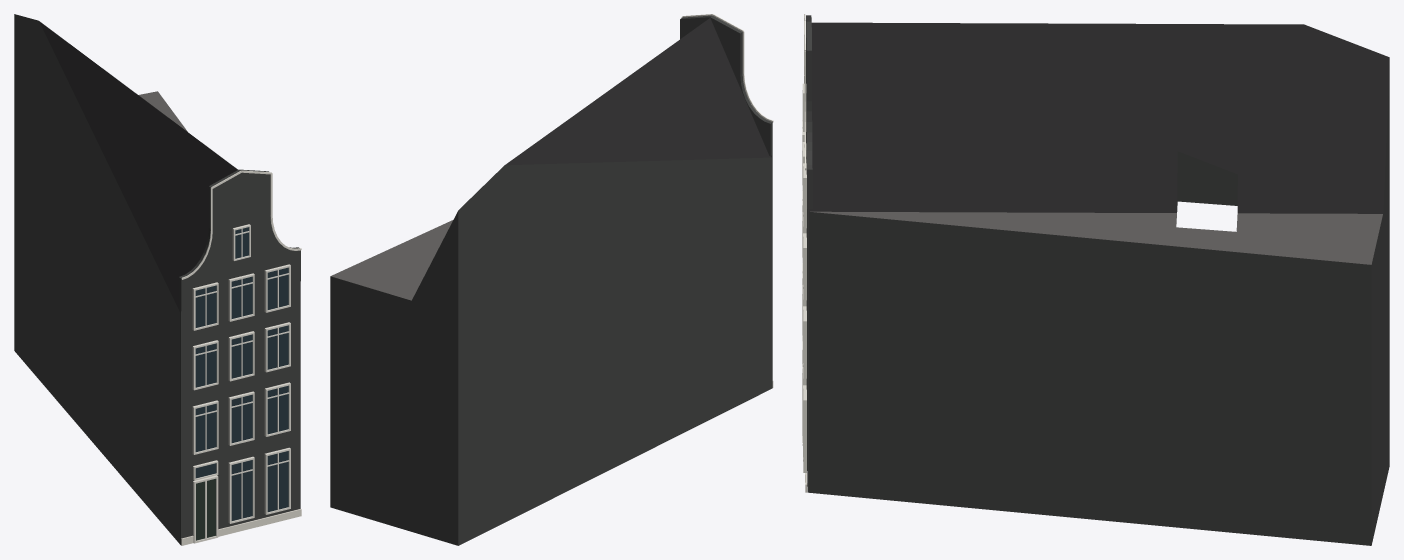
3 views of the same model, side by side, from view 1: azimuth 30°, elevation 25°; view 2: azimuth 150°, elevation 25°; view 3: azimuth 270°, elevation 25° (orthographic). The views are drawn at different scales.
Parts seen in each view (by area): view 1: spec-0363100012182248; view 2: spec-0363100012182248; view 3: spec-0363100012182248.
Part boxes in pixels (bbox=[...]): spec-0363100012182248: bbox=[14, 14, 301, 545]; spec-0363100012182248: bbox=[330, 14, 773, 545]; spec-0363100012182248: bbox=[802, 14, 1389, 545].
Size of the model in its own units: 9.68 by 15.85 by 19.34.
